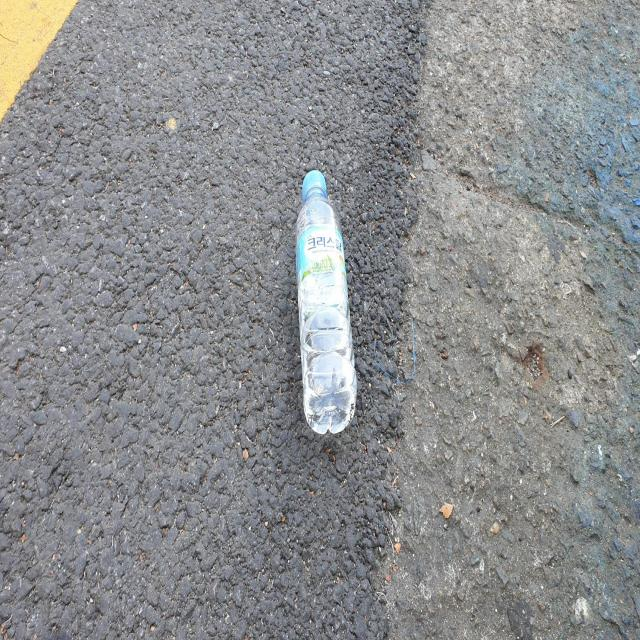plastic: (296, 169, 357, 433)
